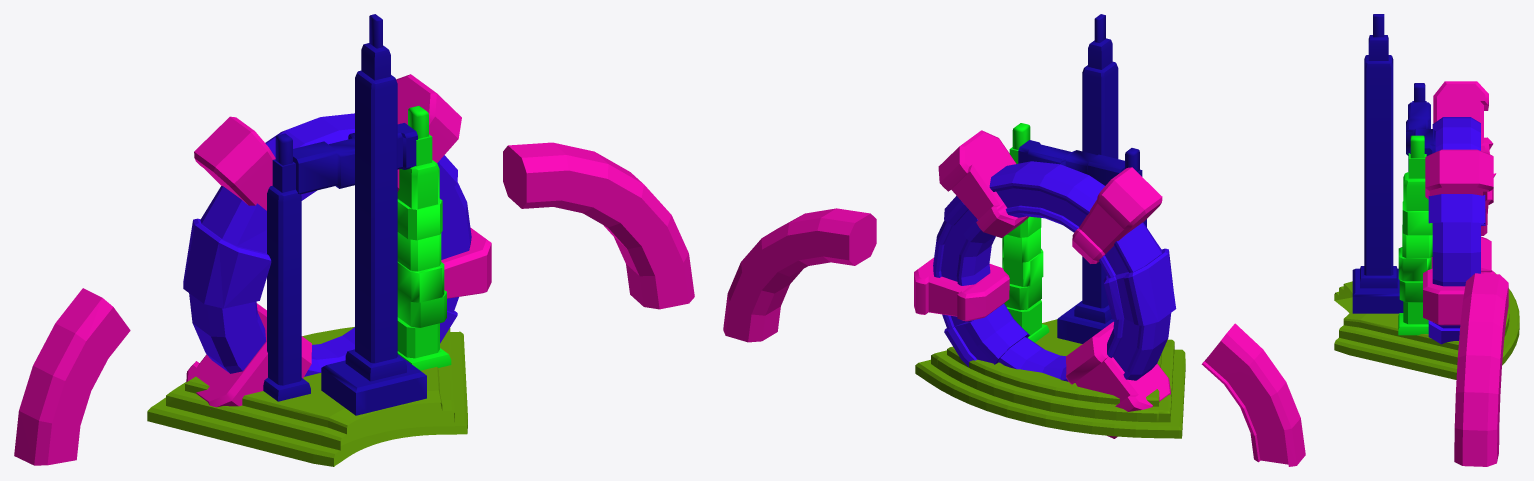
Rendered from portail stone.fbx.
3 renders of one model, left to right at view 1: azimuth 30°, elevation 25°; view 2: azimuth 150°, elevation 25°; view 3: azimuth 270°, elevation 25°, orthographic. The views are drawn at different scales.
Visible parts, largest first — view 1: portail_start; view 2: portail_start; view 3: portail_start.
Part boxes in pixels (<box>): portail_start: <box>14,14,694,466</box>; portail_start: <box>723,14,1305,466</box>; portail_start: <box>1334,14,1519,466</box>.
Size of the model in its own units: 178 by 109 by 55.75.
